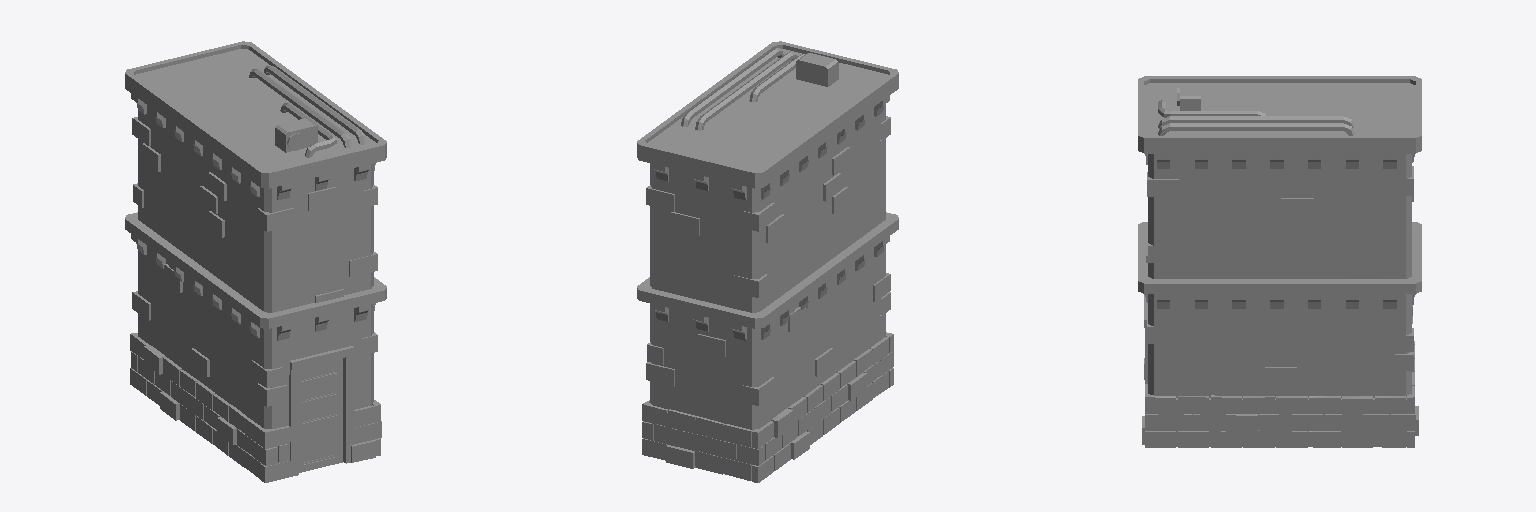
Rendered from 2Story_Slim.obj.
3 views of the same model, side by side, from view 1: azimuth 30°, elevation 25°; view 2: azimuth 150°, elevation 25°; view 3: azimuth 270°, elevation 25° (orthographic).
Parts seen in each view (by area): view 1: 2Story_Slim_Cube.121; view 2: 2Story_Slim_Cube.121; view 3: 2Story_Slim_Cube.121.
Part boxes in pixels (bbox=[...]): 2Story_Slim_Cube.121: bbox=[125, 41, 386, 482]; 2Story_Slim_Cube.121: bbox=[637, 41, 898, 482]; 2Story_Slim_Cube.121: bbox=[1138, 76, 1421, 447].
Bounding box in the file's own units: 1.12 × 2.76 × 2.15.